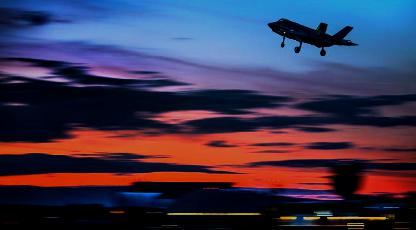F22: (267, 18, 359, 56)
